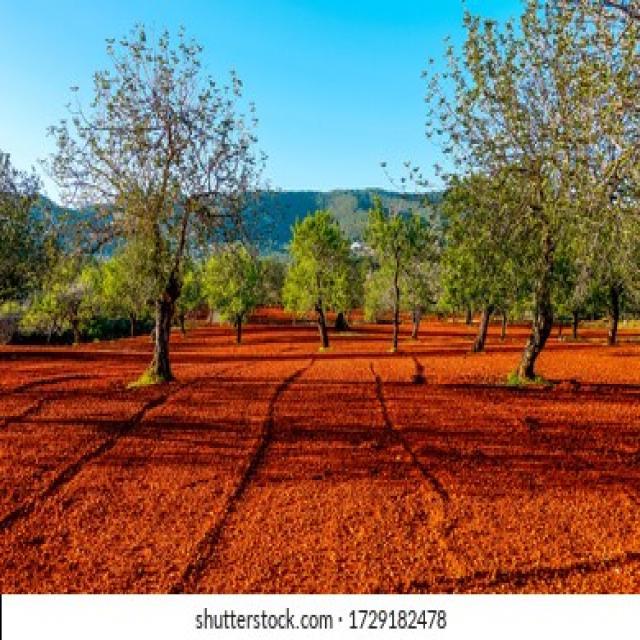Red Soil: (200, 350, 502, 578), (10, 355, 130, 568)
